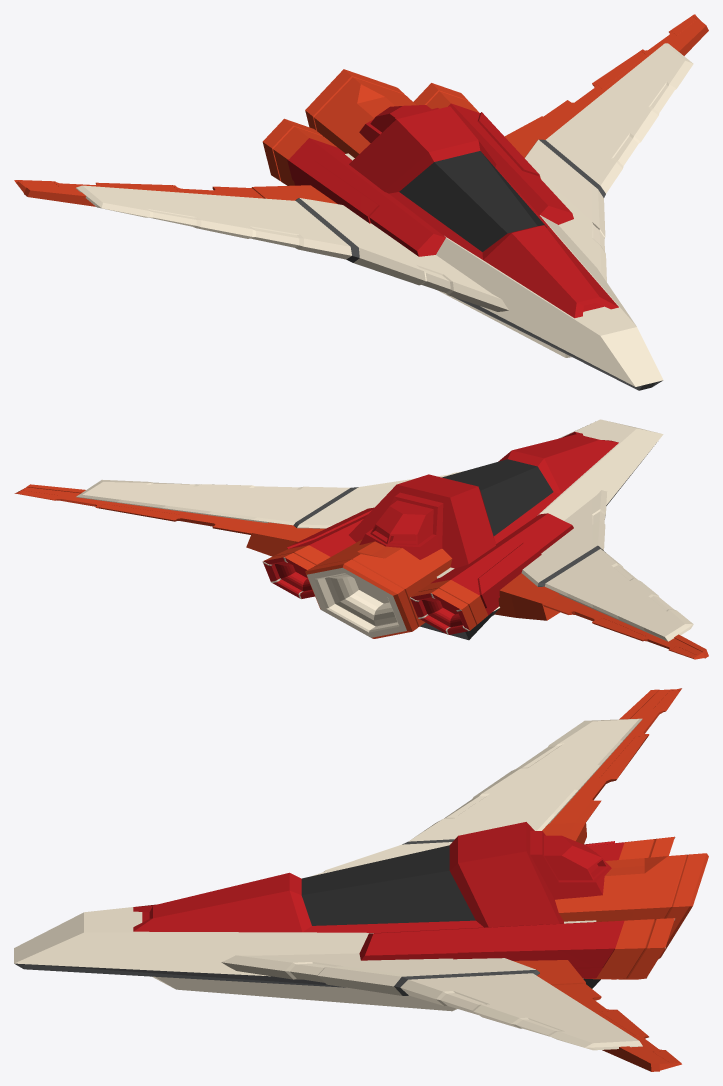
File: xencor_ship_01.fbx
3 views of the same model, one above another, from view 1: azimuth 30°, elevation 25°; view 2: azimuth 150°, elevation 25°; view 3: azimuth 270°, elevation 25° (orthographic). The views are drawn at different scales.
Parts seen in each view (by area): view 1: wings, canopy, hull, engine_side, engine_main, engine_side_panel, aileron; view 2: wings, canopy, engine_main, engine_side, hull, engine_side_panel, aileron; view 3: wings, canopy, hull, engine_side, engine_main, engine_side_panel, underside, aileron.
Part boxes in pixels (<box>): wings: <box>14,14,708,311</box>; canopy: <box>349,105,618,318</box>; hull: <box>345,153,663,390</box>; engine_side: <box>262,83,573,256</box>; engine_main: <box>305,69,416,157</box>; engine_side_panel: <box>287,112,540,223</box>; aileron: <box>19,16,696,191</box>; wings: <box>14,471,708,659</box>; canopy: <box>349,431,618,568</box>; engine_main: <box>305,539,452,638</box>; engine_side: <box>263,513,573,634</box>; hull: <box>420,419,663,640</box>; engine_side_panel: <box>287,507,541,608</box>; aileron: <box>19,491,696,658</box>; wings: <box>221,688,681,1071</box>; canopy: <box>133,822,611,932</box>; hull: <box>14,904,600,988</box>; engine_side: <box>359,836,674,979</box>; engine_main: <box>555,853,708,959</box>; engine_side_panel: <box>453,841,614,968</box>; underside: <box>152,976,456,1011</box>; aileron: <box>600,690,680,1062</box>.
Bounding box in the file's own units: 736 × 143 × 574.
